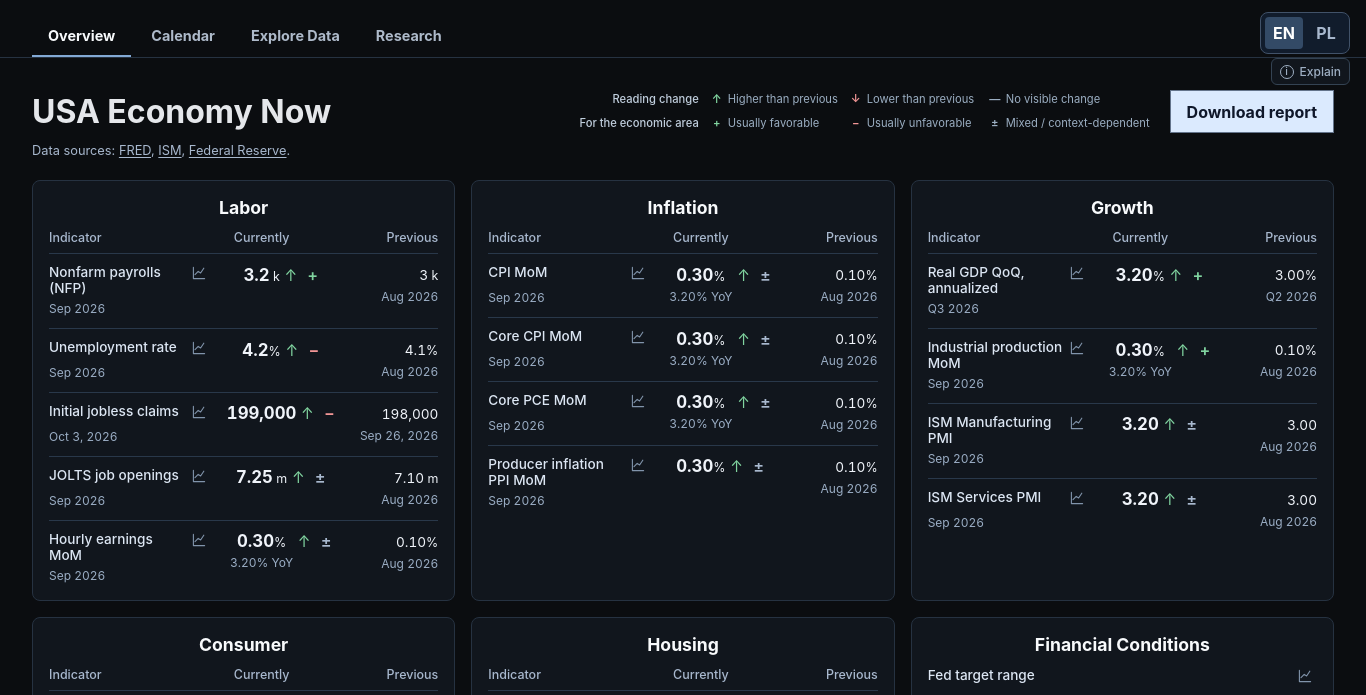
Test: EN/PL translates labels, formats values and exports the same periods without extra requests
This screenshot has width=1366, height=695.
Check: the heading "Labor" is shown, box [219,197,268,218]
Click the button with aria-label "Polski" at (1326, 33), box [1307,17,1345,49]
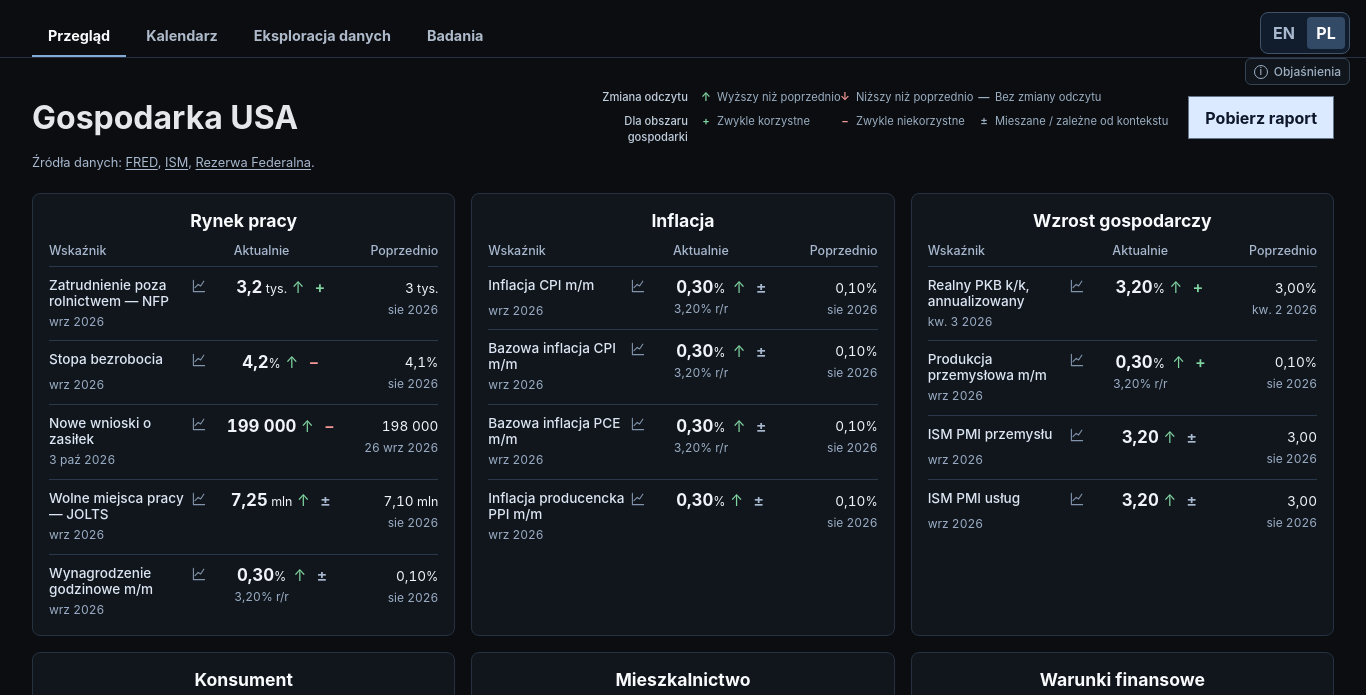
Check: the table with class "overview-domain-table" shows "4,2", box [242,352,268,372]
Check: the table with class "overview-domain-table" shows "Poprzednio", box [370,243,438,258]
